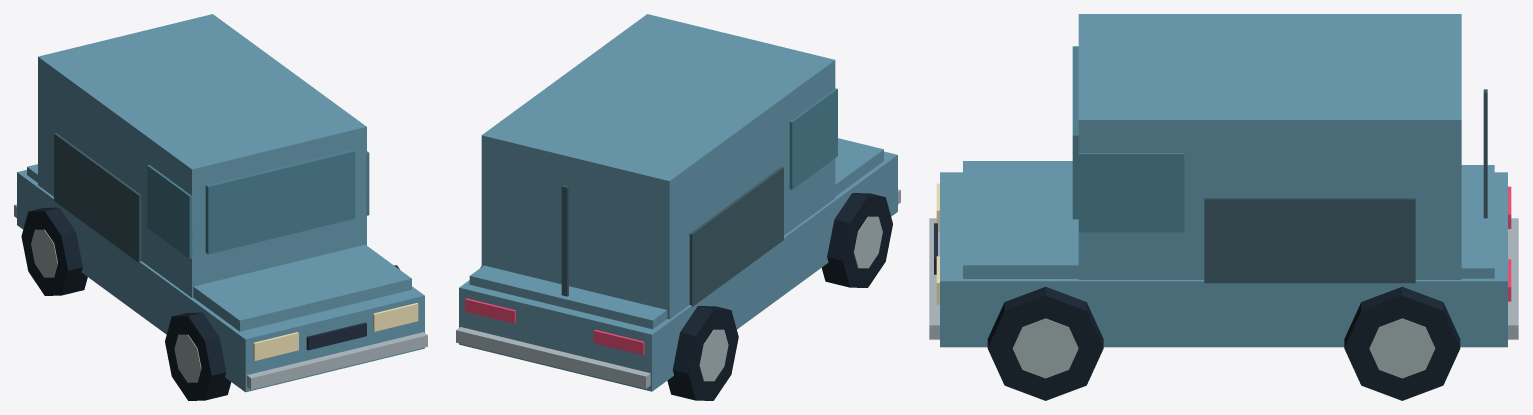
File: vehicle-van.obj
3 renders of one model, left to right at view 1: azimuth 30°, elevation 25°; view 2: azimuth 150°, elevation 25°; view 3: azimuth 270°, elevation 25°, orthographic. The views are drawn at different scales.
Parts seen in each view (by area): view 1: vehicle-van; view 2: vehicle-van; view 3: vehicle-van.
Part boxes in pixels (x1,y1,x2,y2): vehicle-van: (14,14,427,400); vehicle-van: (456,14,900,400); vehicle-van: (929,14,1518,400).
Size of the model in its own units: 2.28 by 2.26 by 4.46.
